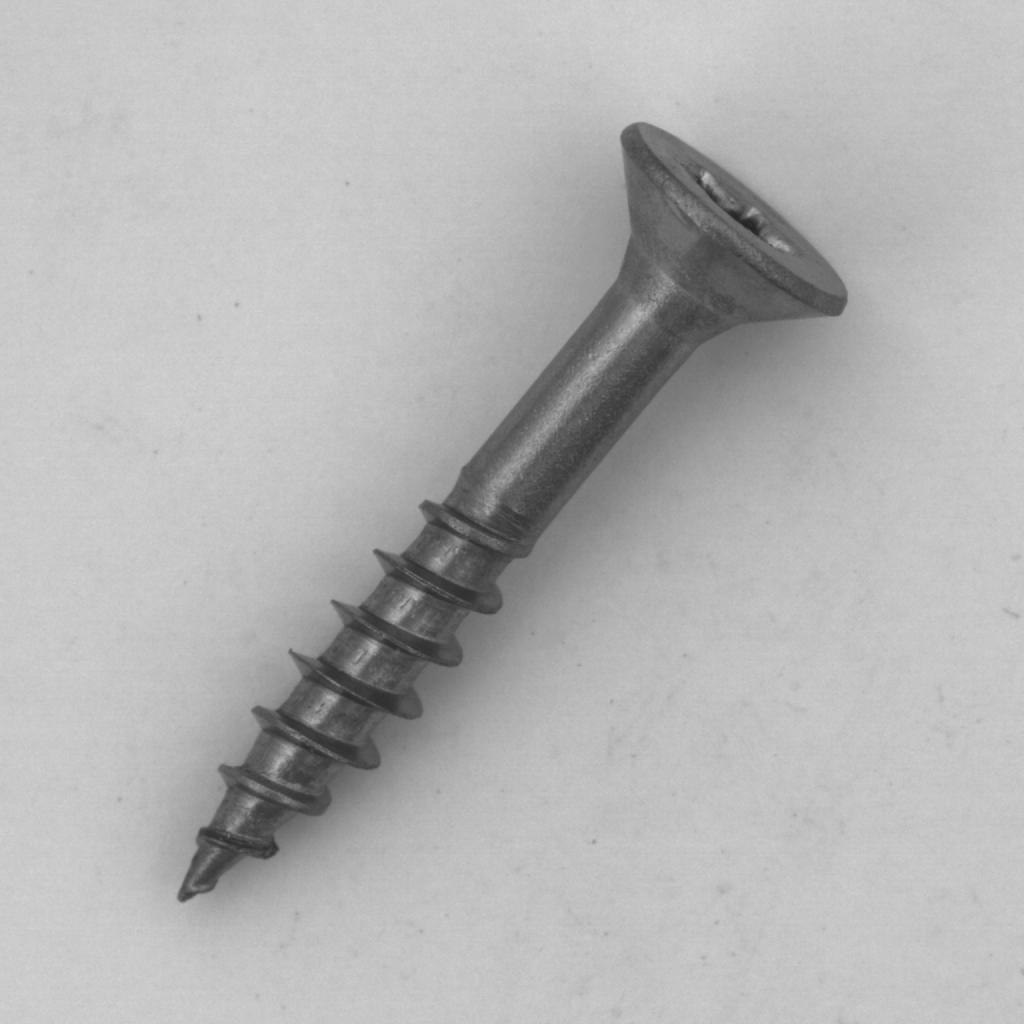good: (160, 113, 860, 924)
